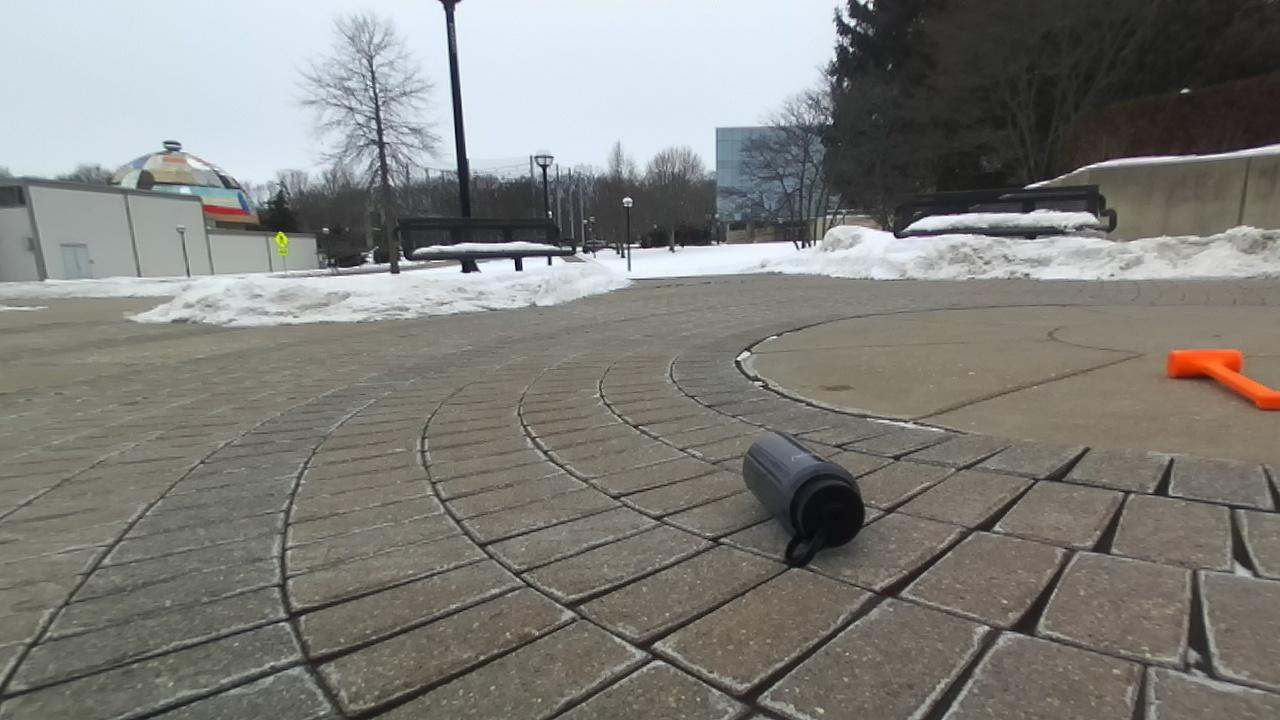bottle: (742, 433, 864, 566)
mallet: (1167, 350, 1279, 409)
